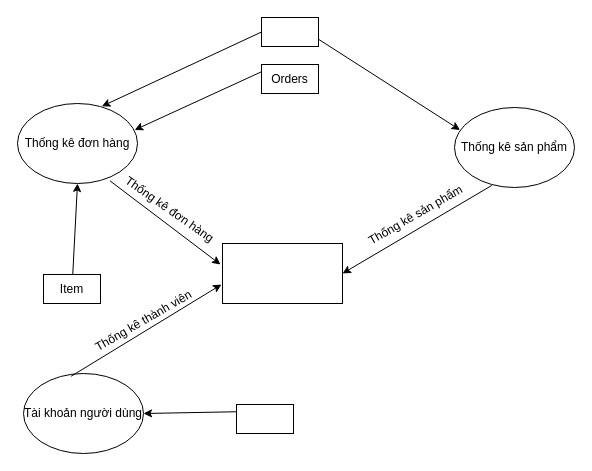
Some shapes in this 592 by 471 pixel diagram are drawn without their labels. The centre of each missing label's shape, as x and y in pixels:
"Product" belongs at point (289, 31).
"User" belongs at point (265, 419).
"User(Quản lý)" belongs at point (282, 273).
